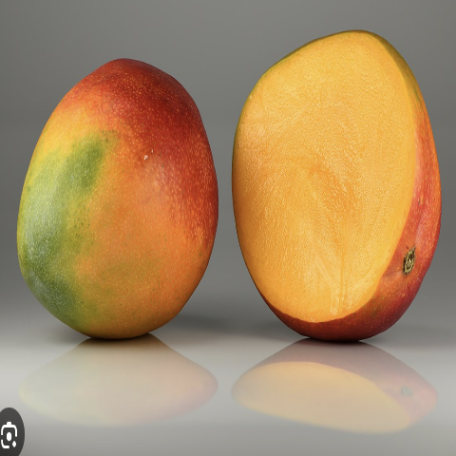mango: (228, 14, 446, 375), (12, 54, 223, 370)
